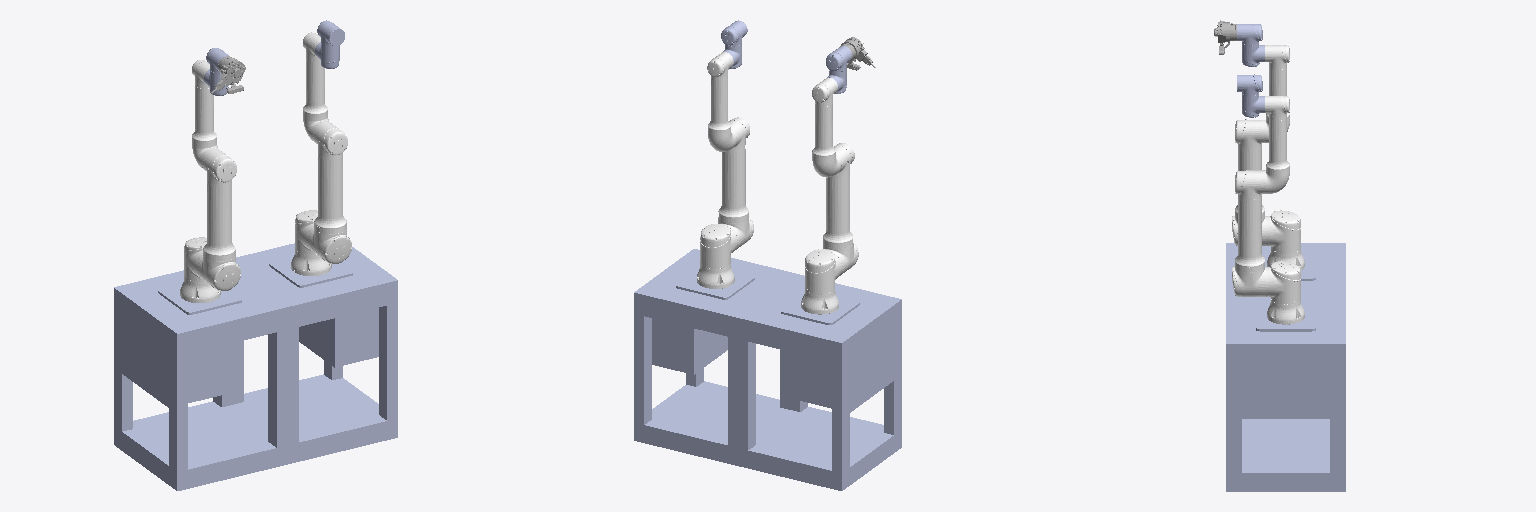
The robot description file, URDF, robot "ROBOT1010":
<?xml version="1.0" encoding="utf-8"?>
<!-- This URDF was automatically created by SolidWorks to URDF Exporter! Originally created by [author] ([email redacted]) 
     Commit Version: 1.6.0-4-g7f85cfe  Build Version: 1.6.7995.38578
     For more information, please see http://wiki.ros.org/sw_urdf_exporter -->
<robot
  name="ROBOT1010">
  <link
    name="base_link">
    <inertial>
      <origin
        xyz="-3.8858E-16 6.132E-05 0.48724"
        rpy="0 0 0" />
      <mass
        value="275.37" />
      <inertia
        ixx="29.428"
        ixy="-6.7312E-16"
        ixz="-2.6439E-15"
        iyy="30.097"
        iyz="-4.2543E-16"
        izz="15.99" />
    </inertial>
    <visual>
      <origin
        xyz="0 0 0"
        rpy="0 0 0" />
      <geometry>
        <mesh
          filename="package://my_robot_description/meshes/base_link.STL" />
      </geometry>
      <material
        name="">
        <color
          rgba="0.79216 0.81961 0.93333 1" />
      </material>
    </visual>
    <collision>
      <origin
        xyz="0 0 0"
        rpy="0 0 0" />
      <geometry>
        <mesh
          filename="package://my_robot_description/meshes/base_link.STL" />
      </geometry>
    </collision>
  </link>
  <link
    name="R_R00_Link">
    <inertial>
      <origin
        xyz="5.7685E-05 -0.00010433 0.065475"
        rpy="0 0 0" />
      <mass
        value="0.94896" />
      <inertia
        ixx="0.0029607"
        ixy="-1.0113E-06"
        ixz="5.2729E-06"
        iyy="0.0026222"
        iyz="-2.8851E-06"
        izz="0.0039906" />
    </inertial>
    <visual>
      <origin
        xyz="0 0 0"
        rpy="0 0 0" />
      <geometry>
        <mesh
          filename="package://my_robot_description/meshes/R_R00_Link.STL" />
      </geometry>
      <material
        name="">
        <color
          rgba="1 1 1 1" />
      </material>
    </visual>
    <collision>
      <origin
        xyz="0 0 0"
        rpy="0 0 0" />
      <geometry>
        <mesh
          filename="package://my_robot_description/meshes/R_R00_Link.STL" />
      </geometry>
    </collision>
  </link>
  <joint
    name="R_R00_Joint"
    type="fixed">
    <origin
      xyz="0.3015 0.001 0.8295"
      rpy="0 0 0" />
    <parent
      link="base_link" />
    <child
      link="R_R00_Link" />
    <axis
      xyz="0 0 0" />
  </joint>
  <link
    name="R_R01_Link">
    <inertial>
      <origin
        xyz="8.7738E-06 -0.010199 0.087734"
        rpy="0 0 0" />
      <mass
        value="3.6238" />
      <inertia
        ixx="0.011748"
        ixy="5.2402E-08"
        ixz="-5.1621E-07"
        iyy="0.010978"
        iyz="0.0014505"
        izz="0.011872" />
    </inertial>
    <visual>
      <origin
        xyz="0 0 0"
        rpy="0 0 0" />
      <geometry>
        <mesh
          filename="package://my_robot_description/meshes/R_R01_Link.STL" />
      </geometry>
      <material
        name="">
        <color
          rgba="1 1 1 1" />
      </material>
    </visual>
    <collision>
      <origin
        xyz="0 0 0"
        rpy="0 0 0" />
      <geometry>
        <mesh
          filename="package://my_robot_description/meshes/R_R01_Link.STL" />
      </geometry>
    </collision>
  </link>
  <joint
    name="R_R01_Joint"
    type="revolute">
    <origin
      xyz="0 0 0.101"
      rpy="0 0 0" />
    <parent
      link="R_R00_Link" />
    <child
      link="R_R01_Link" />
    <axis
      xyz="0 0 1" />
    <limit
      lower="-6.2832"
      upper="6.2832"
      effort="100.0"
      velocity="2.0" />
  </joint>
  <link
    name="R_R02_Link">
    <inertial>
      <origin
        xyz="-3.3956E-06 -0.090301 0.22698"
        rpy="0 0 0" />
      <mass
        value="10.025" />
      <inertia
        ixx="0.082438"
        ixy="-6.6884E-07"
        ixz="-6.9209E-08"
        iyy="0.082584"
        iyz="0.0010302"
        izz="0.023126" />
    </inertial>
    <visual>
      <origin
        xyz="0 0 0"
        rpy="0 0 0" />
      <geometry>
        <mesh
          filename="package://my_robot_description/meshes/R_R02_Link.STL" />
      </geometry>
      <material
        name="">
        <color
          rgba="1 1 1 1" />
      </material>
    </visual>
    <collision>
      <origin
        xyz="0 0 0"
        rpy="0 0 0" />
      <geometry>
        <mesh
          filename="package://my_robot_description/meshes/R_R02_Link.STL" />
      </geometry>
    </collision>
  </link>
  <joint
    name="R_R02_Joint"
    type="revolute">
    <origin
      xyz="0 -0.089 0.0915"
      rpy="0 0 0" />
    <parent
      link="R_R01_Link" />
    <child
      link="R_R02_Link" />
    <axis
      xyz="0 -1 0" />
    <limit
      lower="-6.2832"
      upper="6.2832"
      effort="100.0"
      velocity="2.0" />
  </joint>
  <link
    name="R_R03_Link">
    <inertial>
      <origin
        xyz="3.7353E-06 0.064682 0.19279"
        rpy="0 0 0" />
      <mass
        value="4.1459" />
      <inertia
        ixx="0.021426"
        ixy="-2.9841E-07"
        ixz="9.9667E-08"
        iyy="0.021"
        iyz="-0.00034616"
        izz="0.0057151" />
    </inertial>
    <visual>
      <origin
        xyz="0 0 0"
        rpy="0 0 0" />
      <geometry>
        <mesh
          filename="package://my_robot_description/meshes/R_R03_Link.STL" />
      </geometry>
      <material
        name="">
        <color
          rgba="1 1 1 1" />
      </material>
    </visual>
    <collision>
      <origin
        xyz="0 0 0"
        rpy="0 0 0" />
      <geometry>
        <mesh
          filename="package://my_robot_description/meshes/R_R03_Link.STL" />
      </geometry>
    </collision>
  </link>
  <joint
    name="R_R03_Joint"
    type="revolute">
    <origin
      xyz="0 -0.0209 0.552"
      rpy="0 0 0" />
    <parent
      link="R_R02_Link" />
    <child
      link="R_R03_Link" />
    <axis
      xyz="0 1 0" />
    <limit
      lower="-6.2832"
      upper="6.2832"
      effort="100.0"
      velocity="2.0" />
  </joint>
  <link
    name="R_R04_Link">
    <inertial>
      <origin
        xyz="-2.9867E-06 -0.059008 0.0041121"
        rpy="0 0 0" />
      <mass
        value="0.94334" />
      <inertia
        ixx="0.0014296"
        ixy="3.0514E-08"
        ixz="-4.9833E-08"
        iyy="0.0011354"
        iyz="0.00019671"
        izz="0.0012242" />
    </inertial>
    <visual>
      <origin
        xyz="0 0 0"
        rpy="0 0 0" />
      <geometry>
        <mesh
          filename="package://my_robot_description/meshes/R_R04_Link.STL" />
      </geometry>
      <material
        name="">
        <color
          rgba="0.79216 0.81961 0.93333 1" />
      </material>
    </visual>
    <collision>
      <origin
        xyz="0 0 0"
        rpy="0 0 0" />
      <geometry>
        <mesh
          filename="package://my_robot_description/meshes/R_R04_Link.STL" />
      </geometry>
    </collision>
  </link>
  <joint
    name="R_R04_Joint"
    type="revolute">
    <origin
      xyz="0 0.0031 0.43"
      rpy="0 0 0" />
    <parent
      link="R_R03_Link" />
    <child
      link="R_R04_Link" />
    <axis
      xyz="0 1 0" />
    <limit
      lower="-6.2832"
      upper="6.2832"
      effort="100.0"
      velocity="2.0" />
  </joint>
  <link
    name="R_R05_Link">
    <inertial>
      <origin
        xyz="4.8544E-06 -0.0047046 0.046075"
        rpy="0 0 0" />
      <mass
        value="0.82449" />
      <inertia
        ixx="0.0010544"
        ixy="-7.6266E-08"
        ixz="3.7967E-08"
        iyy="0.00086962"
        iyz="0.00011863"
        izz="0.0010023" />
    </inertial>
    <visual>
      <origin
        xyz="0 0 0"
        rpy="0 0 0" />
      <geometry>
        <mesh
          filename="package://my_robot_description/meshes/R_R05_Link.STL" />
      </geometry>
      <material
        name="">
        <color
          rgba="0.79216 0.81961 0.93333 1" />
      </material>
    </visual>
    <collision>
      <origin
        xyz="0 0 0"
        rpy="0 0 0" />
      <geometry>
        <mesh
          filename="package://my_robot_description/meshes/R_R05_Link.STL" />
      </geometry>
    </collision>
  </link>
  <joint
    name="R_R05_Joint"
    type="revolute">
    <origin
      xyz="0 -0.0707 0.0673"
      rpy="0 0 0" />
    <parent
      link="R_R04_Link" />
    <child
      link="R_R05_Link" />
    <axis
      xyz="0 0 -1" />
    <limit
      lower="-6.2832"
      upper="6.2832"
      effort="100.0"
      velocity="2.0" />
  </joint>
  <link
    name="R_R06_Link">
    <inertial>
      <origin
        xyz="-0.0002141 -0.061538 -0.026956"
        rpy="0 0 0" />
      <mass
        value="1.6652" />
      <inertia
        ixx="0.00080037"
        ixy="-2.9449E-06"
        ixz="2.3339E-06"
        iyy="0.0014906"
        iyz="-4.2122E-06"
        izz="0.00093729" />
    </inertial>
    <visual>
      <origin
        xyz="0 0 0"
        rpy="0 0 0" />
      <geometry>
        <mesh
          filename="package://my_robot_description/meshes/R_R06_Link.STL" />
      </geometry>
      <material
        name="">
        <color
          rgba="0.75294 0.75294 0.75294 1" />
      </material>
    </visual>
    <collision>
      <origin
        xyz="0 0 0"
        rpy="0 0 0" />
      <geometry>
        <mesh
          filename="package://my_robot_description/meshes/R_R06_Link.STL" />
      </geometry>
    </collision>
  </link>
  <joint
    name="R_R06_Joint"
    type="revolute">
    <origin
      xyz="0 -0.0673 0.0507"
      rpy="0 0 0" />
    <parent
      link="R_R05_Link" />
    <child
      link="R_R06_Link" />
    <axis
      xyz="0 1 0" />
    <limit
      lower="-6.2832"
      upper="6.2832"
      effort="100.0"
      velocity="2.0" />
  </joint>
  <link
    name="L_R00_Link">
    <inertial>
      <origin
        xyz="-5.7685E-05 0.00010433 0.065475"
        rpy="0 0 0" />
      <mass
        value="0.94896" />
      <inertia
        ixx="0.0029607"
        ixy="-1.0113E-06"
        ixz="-5.2729E-06"
        iyy="0.0026222"
        iyz="2.8851E-06"
        izz="0.0039906" />
    </inertial>
    <visual>
      <origin
        xyz="0 0 0"
        rpy="0 0 0" />
      <geometry>
        <mesh
          filename="package://my_robot_description/meshes/L_R00_Link.STL" />
      </geometry>
      <material
        name="">
        <color
          rgba="1 1 1 1" />
      </material>
    </visual>
    <collision>
      <origin
        xyz="0 0 0"
        rpy="0 0 0" />
      <geometry>
        <mesh
          filename="package://my_robot_description/meshes/L_R00_Link.STL" />
      </geometry>
    </collision>
  </link>
  <joint
    name="L_R00_Joint"
    type="fixed">
    <origin
      xyz="-0.3015 0.001 0.8295"
      rpy="0 0 0" />
    <parent
      link="base_link" />
    <child
      link="L_R00_Link" />
    <axis
      xyz="0 0 0" />
  </joint>
  <link
    name="L_R01_Link">
    <inertial>
      <origin
        xyz="8.7722E-06 -0.010199 0.087734"
        rpy="0 0 0" />
      <mass
        value="3.6238" />
      <inertia
        ixx="0.011748"
        ixy="5.2386E-08"
        ixz="-5.1621E-07"
        iyy="0.010978"
        iyz="0.0014505"
        izz="0.011872" />
    </inertial>
    <visual>
      <origin
        xyz="0 0 0"
        rpy="0 0 0" />
      <geometry>
        <mesh
          filename="package://my_robot_description/meshes/L_R01_Link.STL" />
      </geometry>
      <material
        name="">
        <color
          rgba="1 1 1 1" />
      </material>
    </visual>
    <collision>
      <origin
        xyz="0 0 0"
        rpy="0 0 0" />
      <geometry>
        <mesh
          filename="package://my_robot_description/meshes/L_R01_Link.STL" />
      </geometry>
    </collision>
  </link>
  <joint
    name="L_R01_Joint"
    type="revolute">
    <origin
      xyz="0 0 0.101"
      rpy="0 0 0" />
    <parent
      link="L_R00_Link" />
    <child
      link="L_R01_Link" />
    <axis
      xyz="0 0 1" />
    <limit
      lower="-6.2832"
      upper="6.2832"
      effort="100.0"
      velocity="2.0" />
  </joint>
  <link
    name="L_R02_Link">
    <inertial>
      <origin
        xyz="-3.3951E-06 -0.090301 0.22698"
        rpy="0 0 0" />
      <mass
        value="10.025" />
      <inertia
        ixx="0.082438"
        ixy="-6.6879E-07"
        ixz="-6.8997E-08"
        iyy="0.082584"
        iyz="0.0010302"
        izz="0.023126" />
    </inertial>
    <visual>
      <origin
        xyz="0 0 0"
        rpy="0 0 0" />
      <geometry>
        <mesh
          filename="package://my_robot_description/meshes/L_R02_Link.STL" />
      </geometry>
      <material
        name="">
        <color
          rgba="1 1 1 1" />
      </material>
    </visual>
    <collision>
      <origin
        xyz="0 0 0"
        rpy="0 0 0" />
      <geometry>
        <mesh
          filename="package://my_robot_description/meshes/L_R02_Link.STL" />
      </geometry>
    </collision>
  </link>
  <joint
    name="L_R02_Joint"
    type="revolute">
    <origin
      xyz="0 -0.089 0.0915"
      rpy="0 0 0" />
    <parent
      link="L_R01_Link" />
    <child
      link="L_R02_Link" />
    <axis
      xyz="0 -1 0" />
    <limit
      lower="-6.2832"
      upper="6.2832"
      effort="100.0"
      velocity="2.0" />
  </joint>
  <link
    name="L_R03_Link">
    <inertial>
      <origin
        xyz="3.7356E-06 0.064682 0.19279"
        rpy="0 0 0" />
      <mass
        value="4.1459" />
      <inertia
        ixx="0.021426"
        ixy="-2.9841E-07"
        ixz="9.9664E-08"
        iyy="0.021"
        iyz="-0.00034616"
        izz="0.0057151" />
    </inertial>
    <visual>
      <origin
        xyz="0 0 0"
        rpy="0 0 0" />
      <geometry>
        <mesh
          filename="package://my_robot_description/meshes/L_R03_Link.STL" />
      </geometry>
      <material
        name="">
        <color
          rgba="1 1 1 1" />
      </material>
    </visual>
    <collision>
      <origin
        xyz="0 0 0"
        rpy="0 0 0" />
      <geometry>
        <mesh
          filename="package://my_robot_description/meshes/L_R03_Link.STL" />
      </geometry>
    </collision>
  </link>
  <joint
    name="L_R03_Joint"
    type="revolute">
    <origin
      xyz="0 -0.0209 0.552"
      rpy="0 0 0" />
    <parent
      link="L_R02_Link" />
    <child
      link="L_R03_Link" />
    <axis
      xyz="0 1 0" />
    <limit
      lower="-6.2832"
      upper="6.2832"
      effort="100.0"
      velocity="2.0" />
  </joint>
  <link
    name="L_R04_Link">
    <inertial>
      <origin
        xyz="-2.9854E-06 -0.059008 0.0041121"
        rpy="0 0 0" />
      <mass
        value="0.94334" />
      <inertia
        ixx="0.0014296"
        ixy="3.0491E-08"
        ixz="-4.9808E-08"
        iyy="0.0011354"
        iyz="0.00019671"
        izz="0.0012242" />
    </inertial>
    <visual>
      <origin
        xyz="0 0 0"
        rpy="0 0 0" />
      <geometry>
        <mesh
          filename="package://my_robot_description/meshes/L_R04_Link.STL" />
      </geometry>
      <material
        name="">
        <color
          rgba="0.79216 0.81961 0.93333 1" />
      </material>
    </visual>
    <collision>
      <origin
        xyz="0 0 0"
        rpy="0 0 0" />
      <geometry>
        <mesh
          filename="package://my_robot_description/meshes/L_R04_Link.STL" />
      </geometry>
    </collision>
  </link>
  <joint
    name="L_R04_Joint"
    type="revolute">
    <origin
      xyz="0 0.0031 0.43"
      rpy="0 0 0" />
    <parent
      link="L_R03_Link" />
    <child
      link="L_R04_Link" />
    <axis
      xyz="0 1 0" />
    <limit
      lower="-6.2832"
      upper="6.2832"
      effort="100.0"
      velocity="2.0" />
  </joint>
  <link
    name="L_R05_Link">
    <inertial>
      <origin
        xyz="-5.4904E-05 -0.0047043 0.046075"
        rpy="0 0 0" />
      <mass
        value="0.82449" />
      <inertia
        ixx="0.0010543"
        ixy="-2.4228E-06"
        ixz="1.5451E-06"
        iyy="0.00086965"
        iyz="0.00011862"
        izz="0.0010023" />
    </inertial>
    <visual>
      <origin
        xyz="0 0 0"
        rpy="0 0 0" />
      <geometry>
        <mesh
          filename="package://my_robot_description/meshes/L_R05_Link.STL" />
      </geometry>
      <material
        name="">
        <color
          rgba="0.79216 0.81961 0.93333 1" />
      </material>
    </visual>
    <collision>
      <origin
        xyz="0 0 0"
        rpy="0 0 0" />
      <geometry>
        <mesh
          filename="package://my_robot_description/meshes/L_R05_Link.STL" />
      </geometry>
    </collision>
  </link>
  <joint
    name="L_R05_Joint"
    type="revolute">
    <origin
      xyz="0 -0.0707 0.0673"
      rpy="0 0 0" />
    <parent
      link="L_R04_Link" />
    <child
      link="L_R05_Link" />
    <axis
      xyz="0 0 -1" />
    <limit
      lower="-6.2832"
      upper="6.2832"
      effort="100.0"
      velocity="2.0" />
  </joint>
  <link
    name="L_R06_Link">
    <inertial>
      <origin
        xyz="-0.002204 -0.061333 -0.025591"
        rpy="0 0 0" />
      <mass
        value="1.6639" />
      <inertia
        ixx="0.00078855"
        ixy="6.8494E-06"
        ixz="-1.8668E-06"
        iyy="0.0014753"
        iyz="-4.5567E-06"
        izz="0.00093201" />
    </inertial>
    <visual>
      <origin
        xyz="0 0 0"
        rpy="0 0 0" />
      <geometry>
        <mesh
          filename="package://my_robot_description/meshes/L_R06_Link.STL" />
      </geometry>
      <material
        name="">
        <color
          rgba="0.75294 0.75294 0.75294 1" />
      </material>
    </visual>
    <collision>
      <origin
        xyz="0 0 0"
        rpy="0 0 0" />
      <geometry>
        <mesh
          filename="package://my_robot_description/meshes/L_R06_Link.STL" />
      </geometry>
    </collision>
  </link>
  <joint
    name="L_R06_Joint"
    type="revolute">
    <origin
      xyz="-0.00085495 -0.067295 0.0507"
      rpy="0 0 0" />
    <parent
      link="L_R05_Link" />
    <child
      link="L_R06_Link" />
    <axis
      xyz="0.012704 0.99992 0" />
    <limit
      lower="-6.2832"
      upper="6.2832"
      effort="100.0"
      velocity="2.0" />
  </joint>
</robot>

--- What the picture shows (computed from the rendered views, not written in the file) ---
3 views of the same robot in one strip: view 1: azimuth 30°, elevation 25°; view 2: azimuth 150°, elevation 25°; view 3: azimuth 270°, elevation 25° (orthographic).
Model ROBOT1010 with 15 links and 14 joints (12 revolute, 2 fixed), rooted at base_link, posed every joint at zero.
Visible links, largest first — view 1: base_link, R_R02_Link, L_R02_Link, R_R03_Link, L_R03_Link, L_R06_Link, L_R00_Link, R_R00_Link, R_R01_Link, L_R01_Link, R_R05_Link; view 2: base_link, R_R02_Link, L_R02_Link, L_R03_Link, R_R03_Link, R_R01_Link, L_R01_Link, R_R00_Link, L_R00_Link; view 3: base_link, R_R02_Link, R_R03_Link, L_R02_Link, R_R01_Link, L_R01_Link, L_R03_Link, R_R00_Link.
Boxes of the visible links, x1=… form: base_link: x1=114, y1=243, x2=397, y2=490; R_R02_Link: x1=307, y1=121, x2=351, y2=263; L_R02_Link: x1=196, y1=148, x2=240, y2=290; R_R03_Link: x1=303, y1=32, x2=328, y2=140; L_R03_Link: x1=192, y1=60, x2=217, y2=167; L_R06_Link: x1=211, y1=56, x2=245, y2=93; L_R00_Link: x1=180, y1=277, x2=220, y2=302; R_R00_Link: x1=291, y1=249, x2=331, y2=275; R_R01_Link: x1=295, y1=210, x2=317, y2=254; L_R01_Link: x1=184, y1=237, x2=206, y2=281; R_R05_Link: x1=317, y1=20, x2=344, y2=45; base_link: x1=634, y1=249, x2=901, y2=490; R_R02_Link: x1=718, y1=117, x2=753, y2=249; L_R02_Link: x1=823, y1=143, x2=858, y2=275; L_R03_Link: x1=812, y1=78, x2=840, y2=177; R_R03_Link: x1=707, y1=52, x2=736, y2=151; R_R01_Link: x1=700, y1=224, x2=737, y2=268; L_R01_Link: x1=805, y1=249, x2=841, y2=294; R_R00_Link: x1=697, y1=263, x2=734, y2=288; L_R00_Link: x1=801, y1=290, x2=838, y2=314; base_link: x1=1226, y1=243, x2=1345, y2=491; R_R02_Link: x1=1232, y1=170, x2=1267, y2=296; R_R03_Link: x1=1264, y1=96, x2=1289, y2=193; L_R02_Link: x1=1232, y1=119, x2=1267, y2=245; R_R01_Link: x1=1268, y1=261, x2=1300, y2=304; L_R01_Link: x1=1268, y1=210, x2=1300, y2=253; L_R03_Link: x1=1264, y1=45, x2=1289, y2=142; R_R00_Link: x1=1267, y1=300, x2=1304, y2=324.
Size in the robot's own frame: 1.2 by 0.658 by 2.17 metres.
Meshes: 15 distinct files referenced, 14 mesh visuals loaded (14 binary STL); not drawn: 1 (reference not matched to a file when rendering).